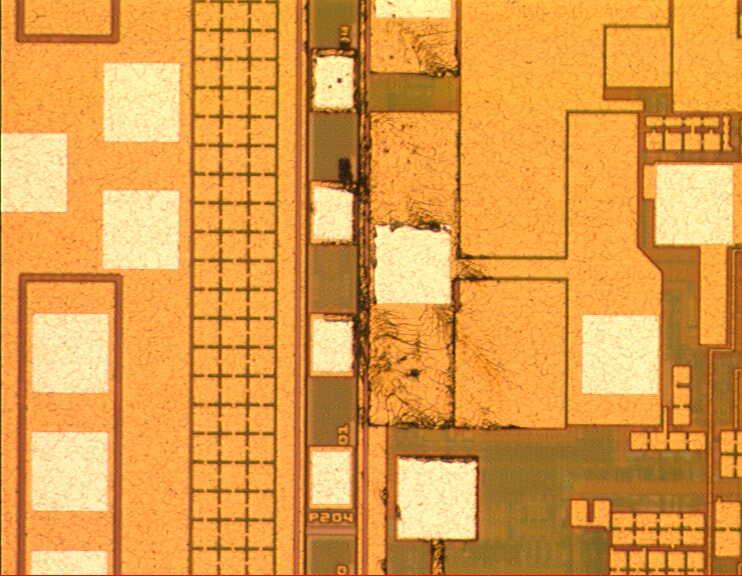SCRATCH: (329, 2, 533, 576)
